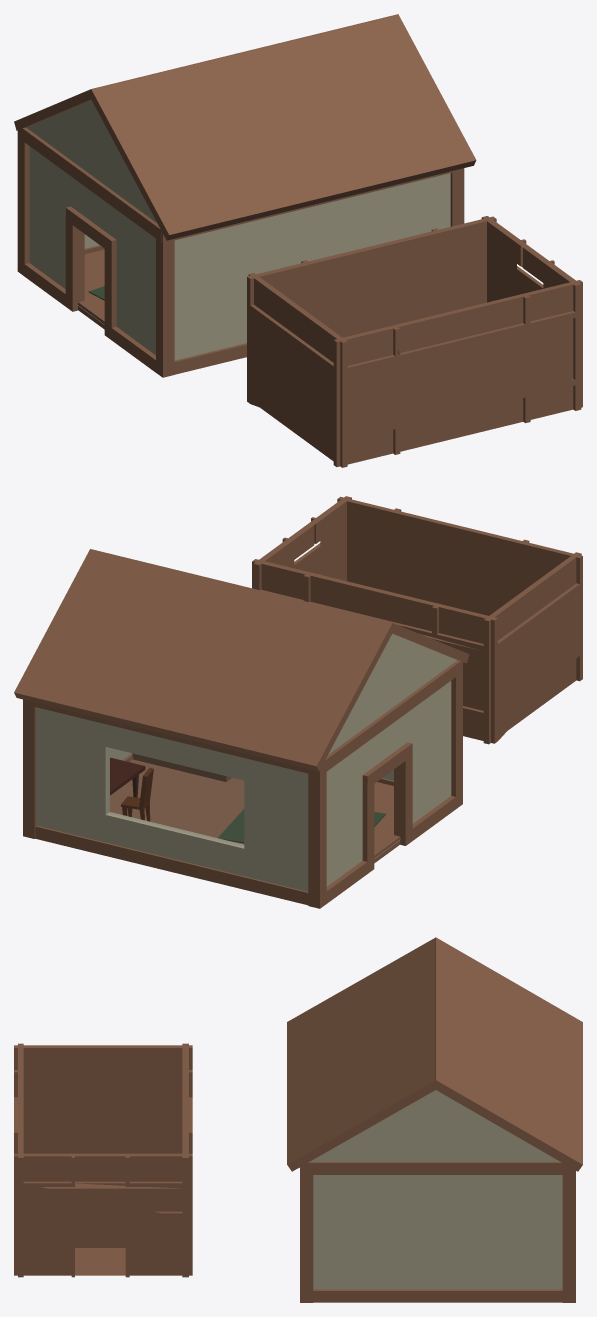
The model's file is House with roof.fbx.
3 views of the same model, one above another, from view 1: azimuth 30°, elevation 25°; view 2: azimuth 150°, elevation 25°; view 3: azimuth 270°, elevation 25° (orthographic). The views are drawn at different scales.
Visible parts, largest first — view 1: pCube1, pCube40, pCube3, pCube5, polySurface8, polySurface15, polySurface4, polySurface1, pCube7, polySurface3, polySurface9, polySurface2 (+4 smaller); view 2: pCube40, pCube1, pCube4, pCube5, pCube7, polySurface5, polySurface4, polySurface15, polySurface11, polySurface3, polySurface8, polySurface14 (+8 smaller); view 3: pCube40, pCube1, pCube6, polySurface16, polySurface12, polySurface11, polySurface10.
Part boxes in pixels (bbox=[...]): pCube1: bbox=[247, 216, 582, 467]; pCube40: bbox=[14, 14, 476, 240]; pCube3: bbox=[174, 173, 450, 360]; pCube5: bbox=[29, 146, 155, 355]; polySurface8: bbox=[156, 232, 174, 377]; polySurface15: bbox=[18, 127, 161, 242]; polySurface4: bbox=[17, 130, 29, 276]; polySurface1: bbox=[65, 216, 84, 311]; pCube7: bbox=[78, 249, 104, 329]; polySurface3: bbox=[104, 248, 116, 339]; polySurface9: bbox=[174, 343, 246, 374]; polySurface2: bbox=[66, 206, 116, 253]; pCube40: bbox=[14, 549, 469, 771]; pCube1: bbox=[252, 496, 582, 744]; pCube4: bbox=[36, 707, 308, 891]; pCube5: bbox=[326, 681, 451, 886]; pCube7: bbox=[110, 759, 400, 863]; polySurface5: bbox=[35, 825, 308, 905]; polySurface4: bbox=[308, 769, 326, 908]; polySurface15: bbox=[320, 660, 461, 775]; polySurface11: bbox=[23, 699, 36, 838]; polySurface3: bbox=[394, 751, 412, 845]; polySurface8: bbox=[451, 661, 462, 807]; polySurface14: bbox=[33, 702, 308, 773]; pCube40: bbox=[287, 937, 582, 1171]; pCube1: bbox=[14, 1043, 192, 1277]; pCube6: bbox=[313, 1175, 562, 1289]; polySurface16: bbox=[300, 1161, 574, 1174]; polySurface12: bbox=[313, 1289, 562, 1302]; polySurface11: bbox=[562, 1170, 575, 1302]; polySurface10: bbox=[300, 1167, 313, 1302].
Bounding box in the file's own units: 25.7 × 18.92 × 43.28.
